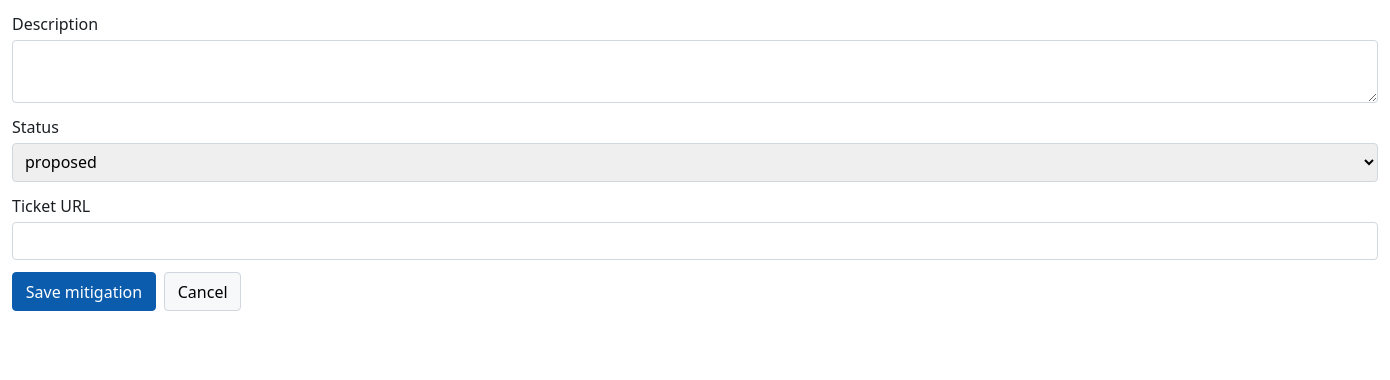
Test case: a server rejection that maps to a field › MitigationForm labels the ticket field "Ticket URL"
Type "Do it" into the text box labelled "Description" at (695,71), box [12,40,1378,103]
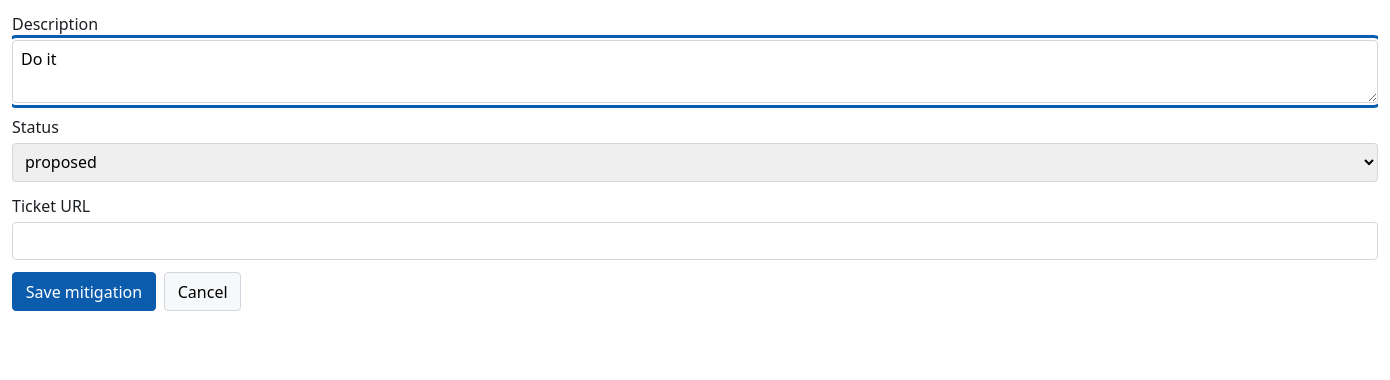
Type "https://x.example" into the field labelled "Ticket URL" at (695,241), box [12,222,1378,260]
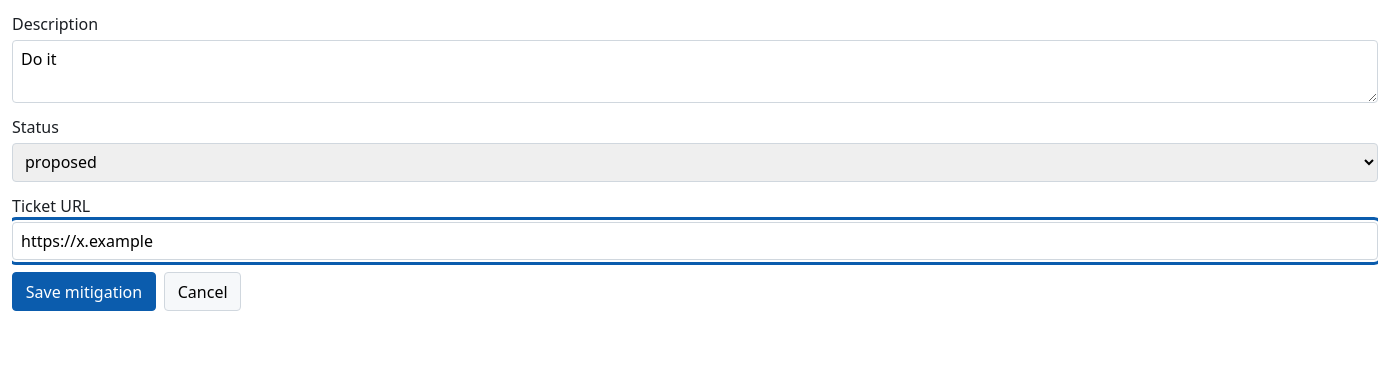
Click the button "Save mitigation" at (84,292), box [12,272,156,311]
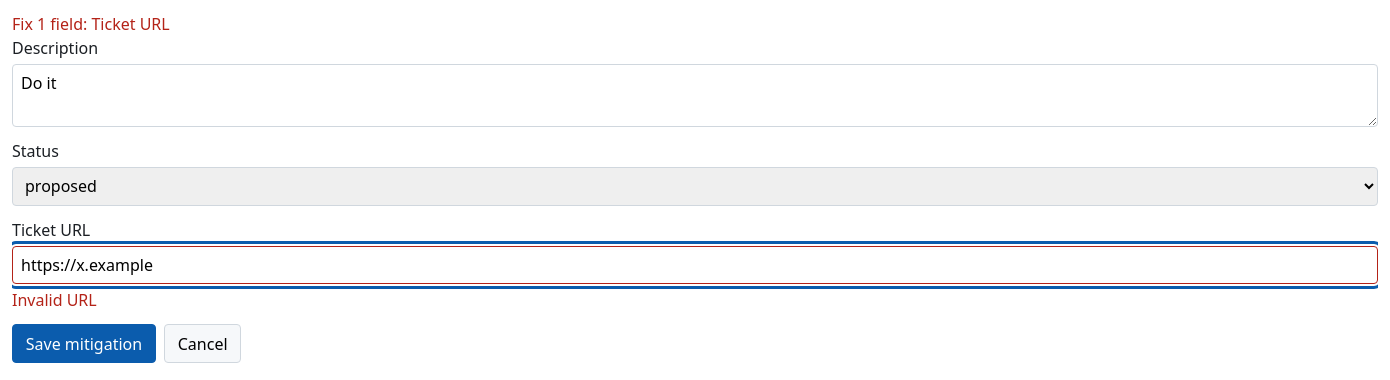
Check: the message reads "Fix 1 field: Ticket URL", box [12,13,170,35]
